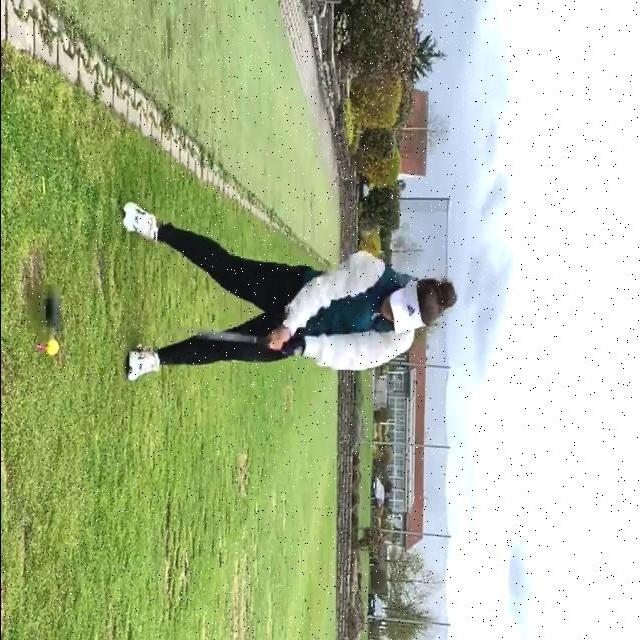golf ball: (46, 341, 58, 357)
golf club-handle: (43, 298, 266, 344)
golf club-head: (43, 297, 59, 328)
